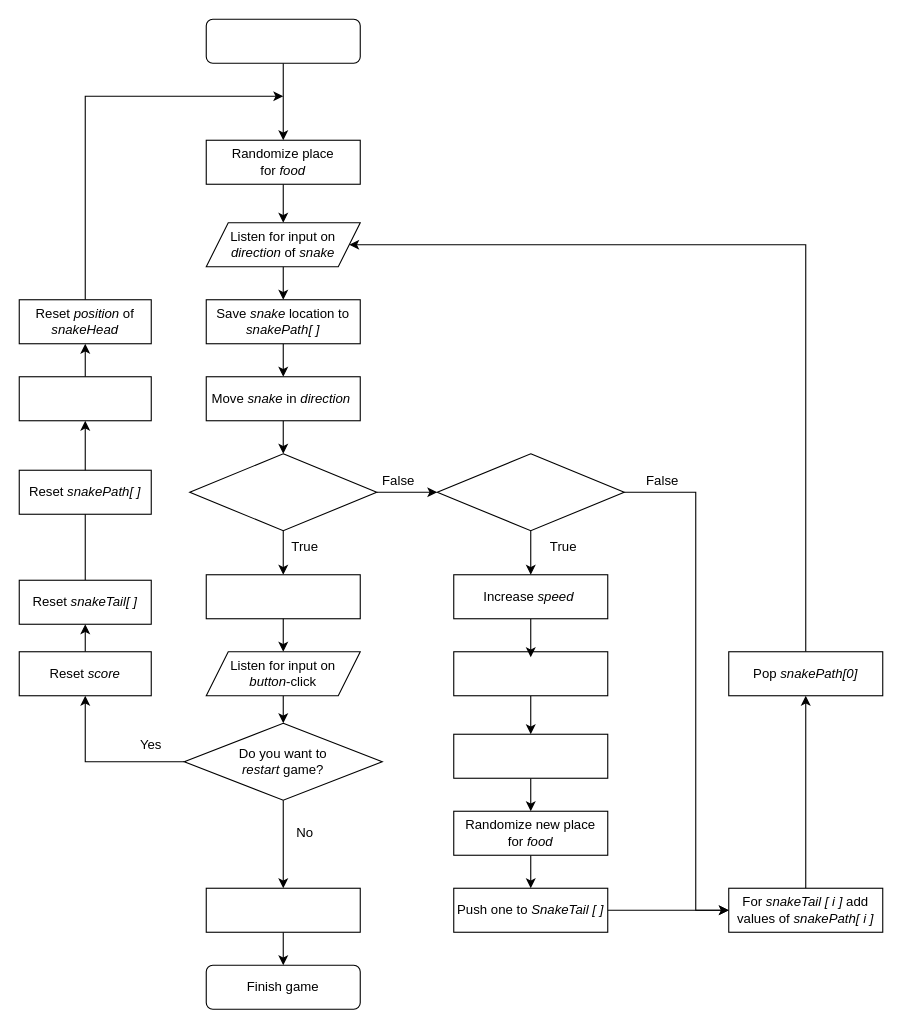
This 902x1029 diagram has some shape labels left out. The box of each missing label's shape, as (x1, y1, x2, y2) in pixels:
Add 10 to score: (453, 651, 608, 696)
Display "Game over!": (205, 574, 360, 619)
Display hungry snake: (205, 887, 360, 932)
Display score: (453, 733, 608, 778)
If snake collides with food: (436, 453, 624, 531)
If snake collides with walls or SnakeTail: (189, 453, 377, 531)
Reset speed: (18, 376, 151, 421)
Start game: (205, 18, 360, 63)
